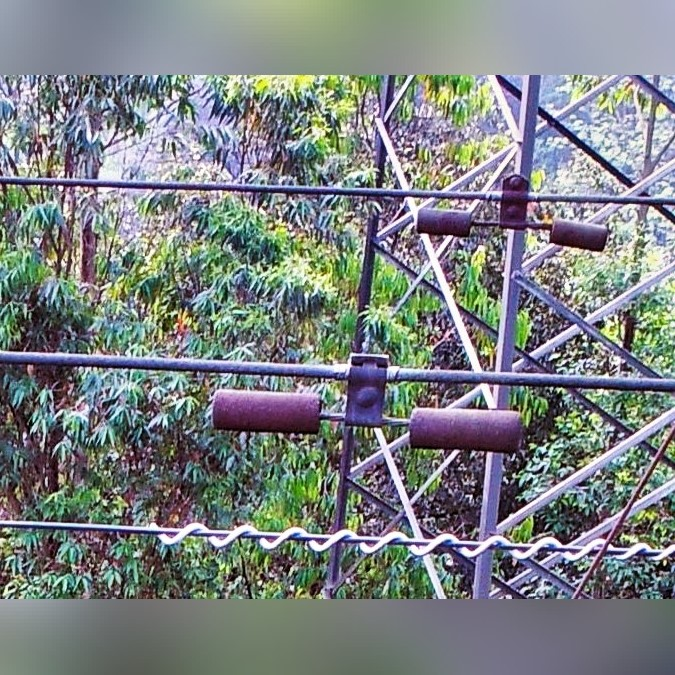Shockproof hammer: (204, 345, 536, 458), (404, 173, 615, 255)
